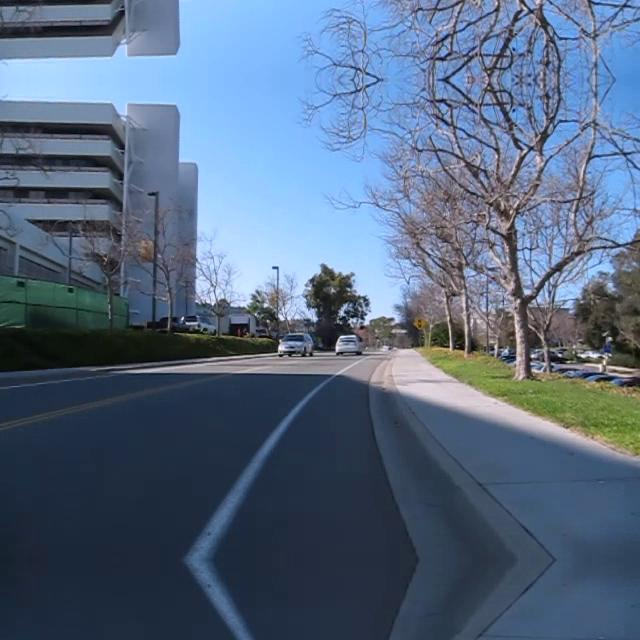signalAhead: (410, 315, 428, 331)
